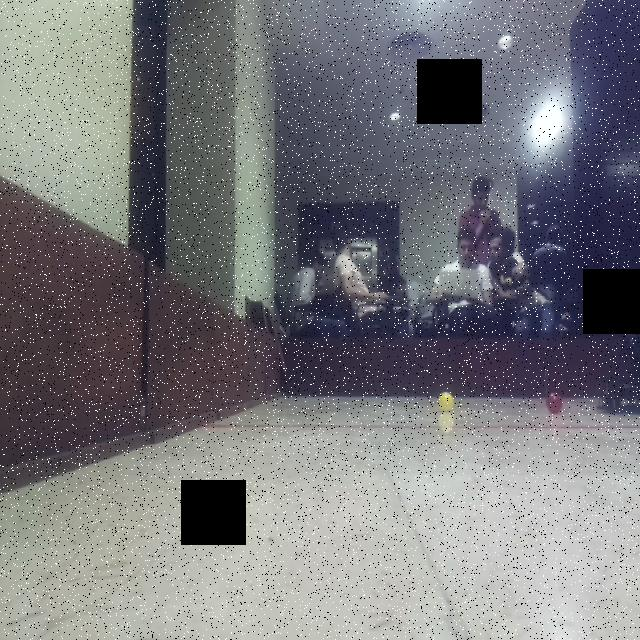ball: (541, 390, 568, 418)
